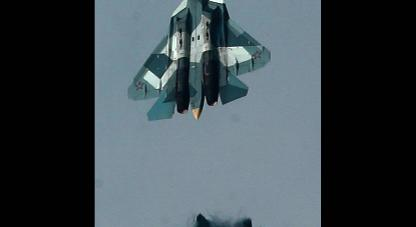SR71: (126, 0, 271, 122)
